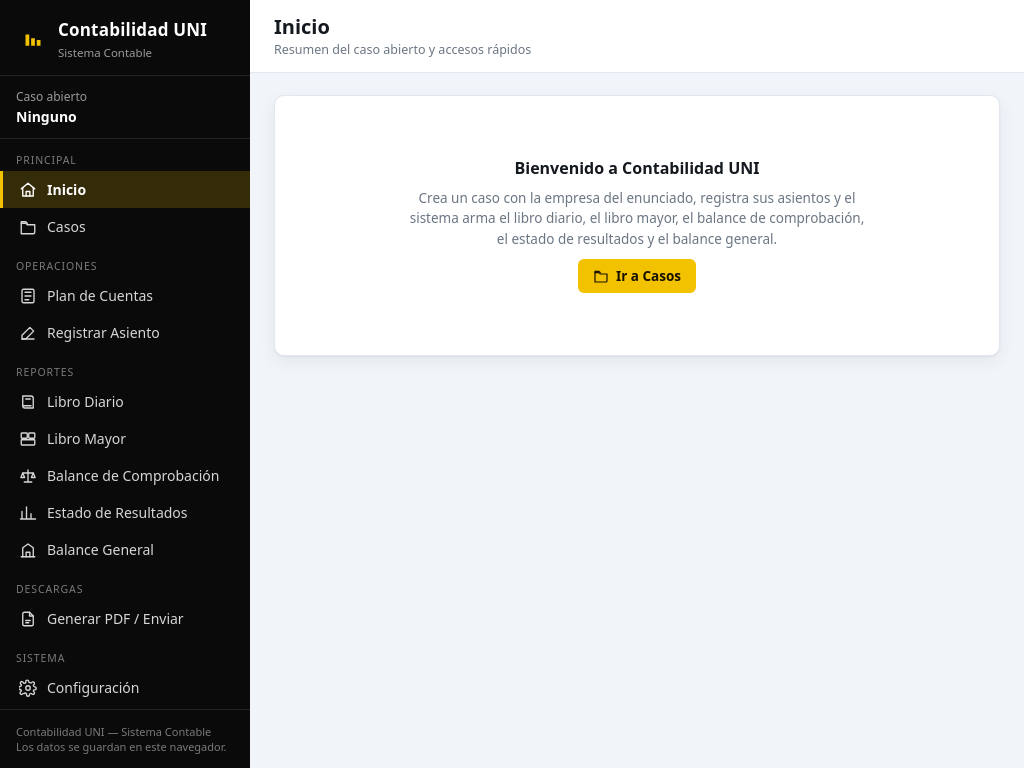
Test: flujo completo de la aplicacion › guarda a la vez el nombre del caso y los datos de la empresa
Expected: the heading "Bienvenido a Contabilidad UNI" is shown, [514,158,760,178]
Click the link "Casos".
click(52, 226)  # box [19,217,86,236]
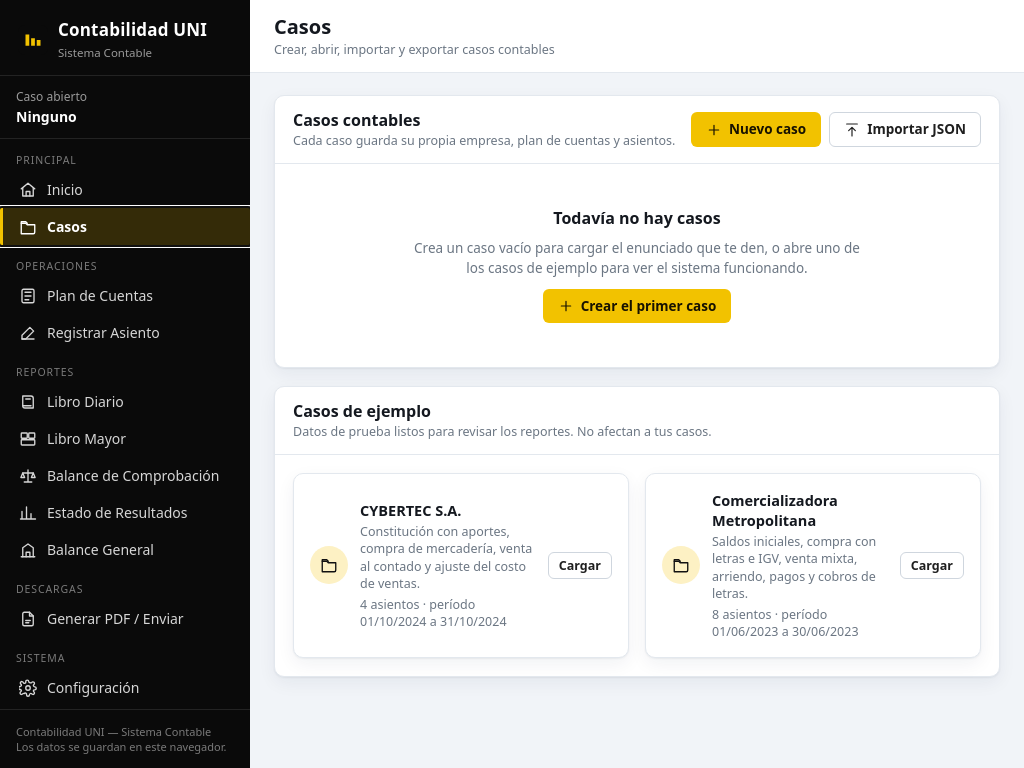
Click the button "Cargar" below "CYBERTEC S.A.".
click(580, 565)  # box [548,552,612,579]
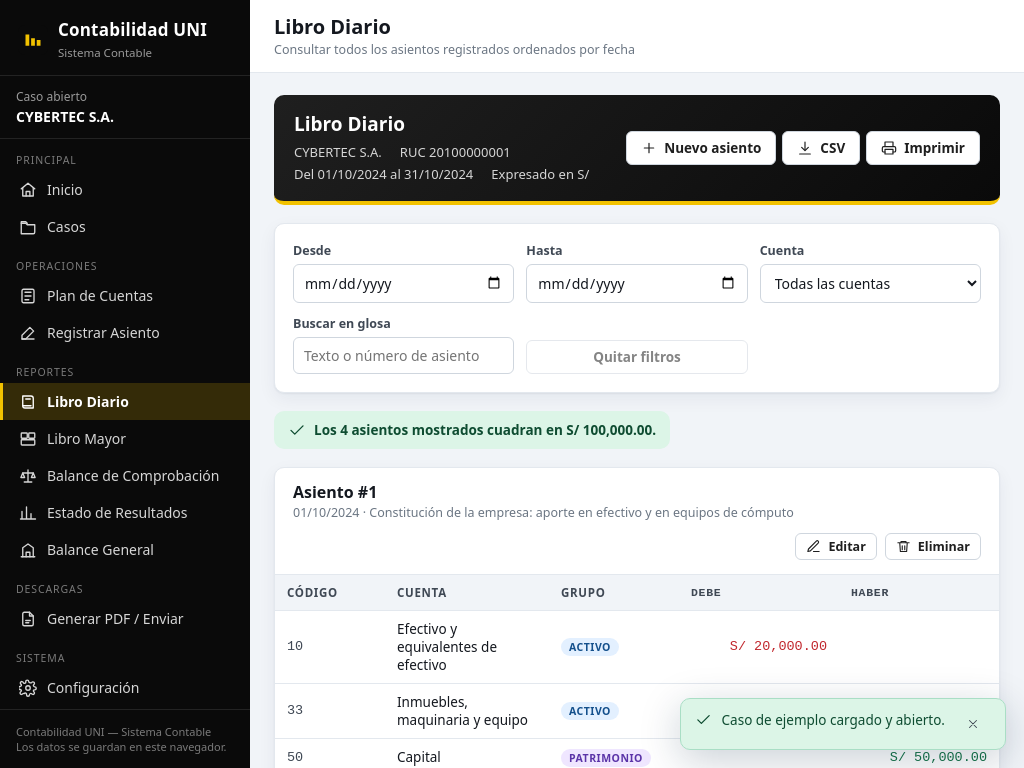
Result: the 2nd heading "Libro Diario" is shown at [294,111,405,137]
Click the link "Configuración".
click(79, 688)  # box [19,678,140,697]
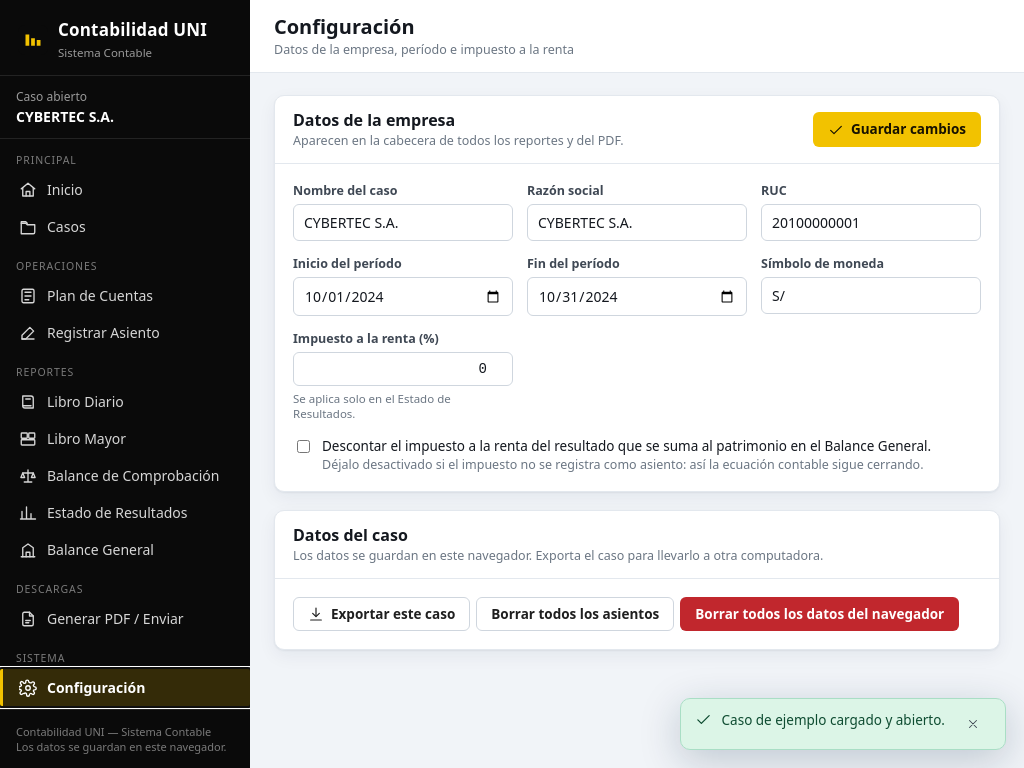
Replace the text in the field labelled "Nombre del caso" with "Caso de prueba" at (403, 222), box [293,204,513,241]
Replace the text in the field labelled "Razón social" with "Nueva Empresa S.A.C." at (637, 222), box [527,204,747,241]
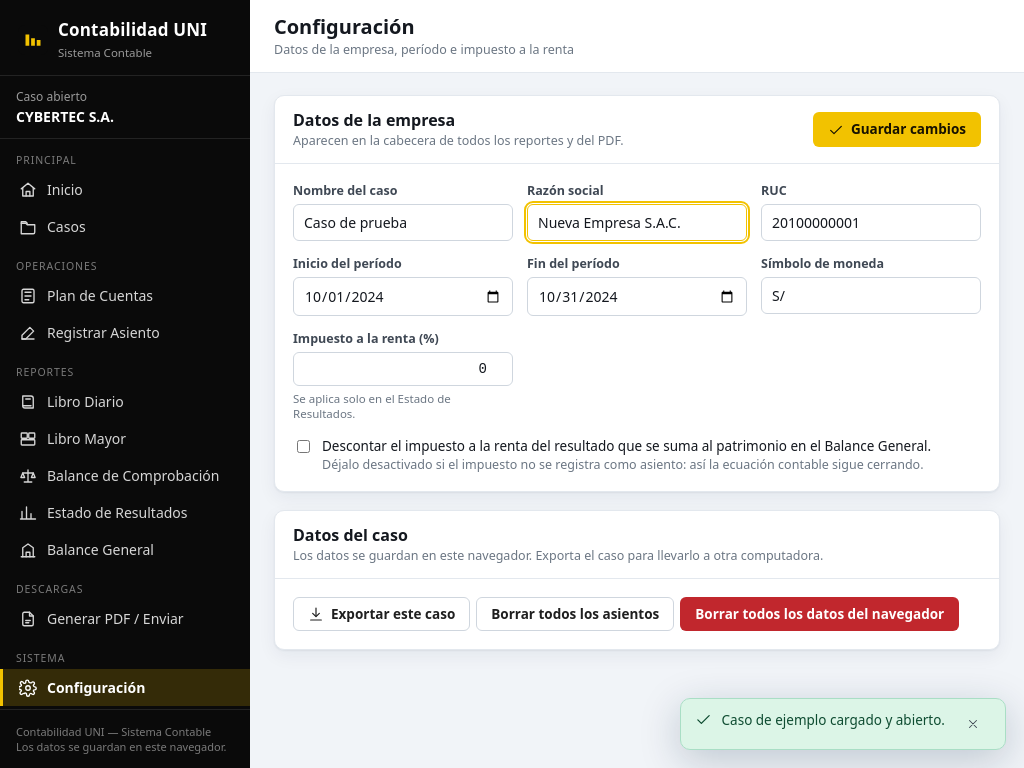
Click the button "Guardar cambios".
click(897, 130)  # box [813,112,981,147]
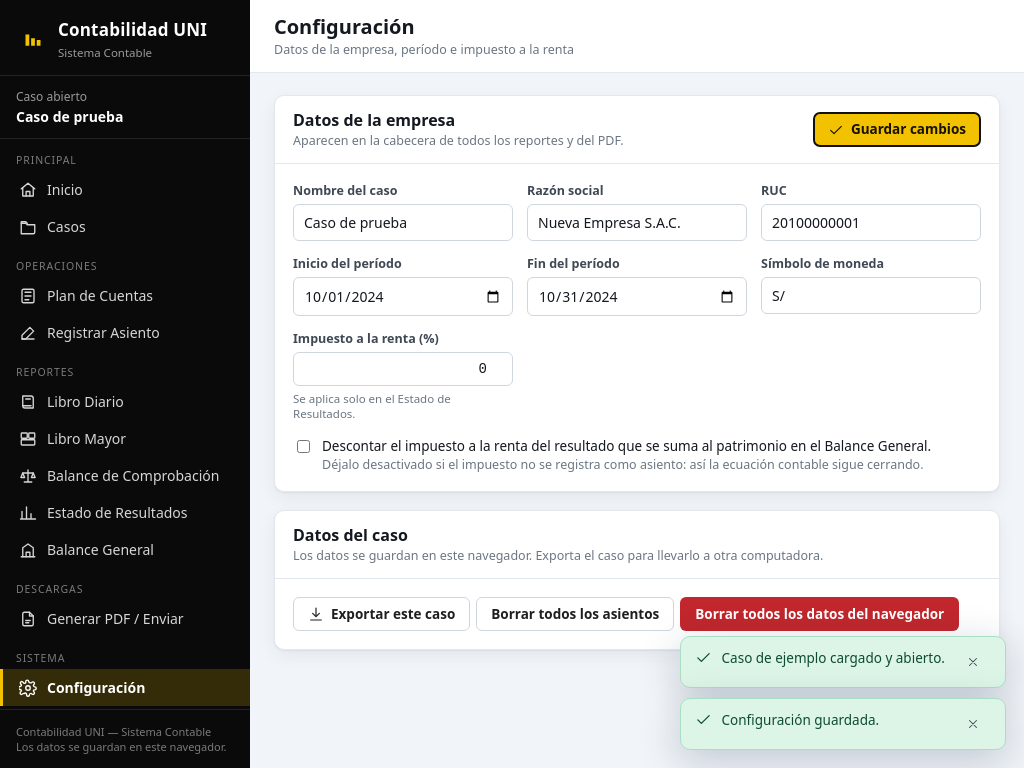
Result: the text "Configuración guardada." is shown at [722,711,879,729]
Result: the text "Caso de prueba" is shown at [16,107,123,126]
Click the link "Libro Diario".
click(71, 402)  # box [19,392,124,411]
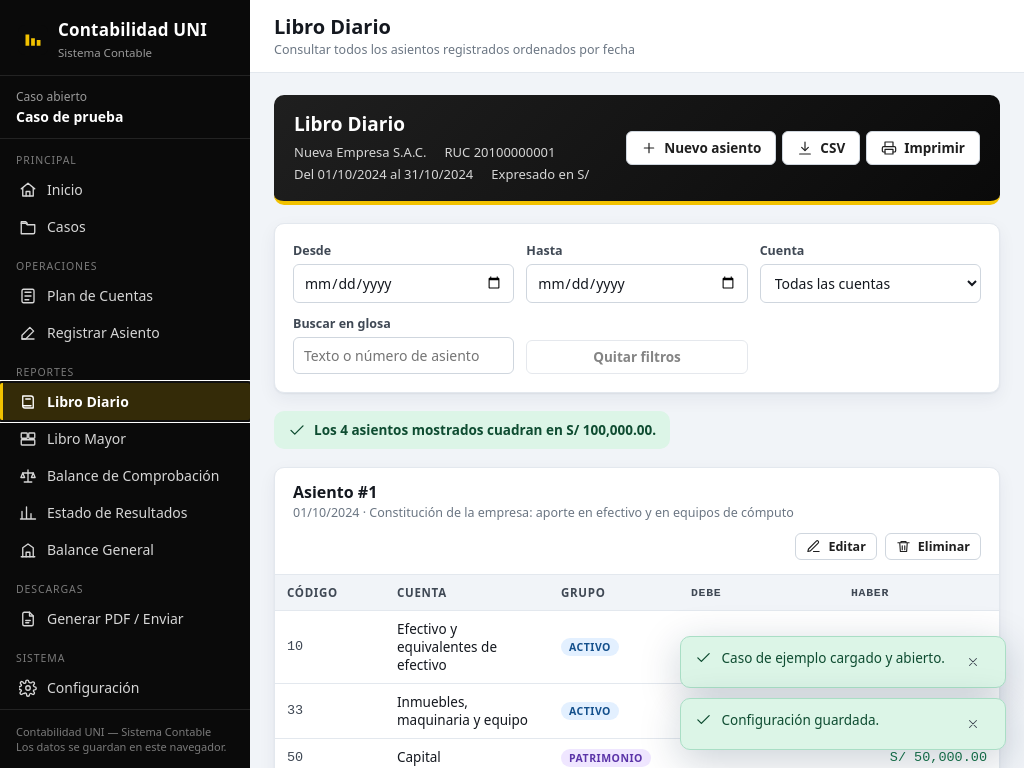
Result: the text "Caso de prueba" is shown at [16,107,123,126]
Result: the text "Nueva Empresa S.A.C." is shown at [294,143,426,161]
